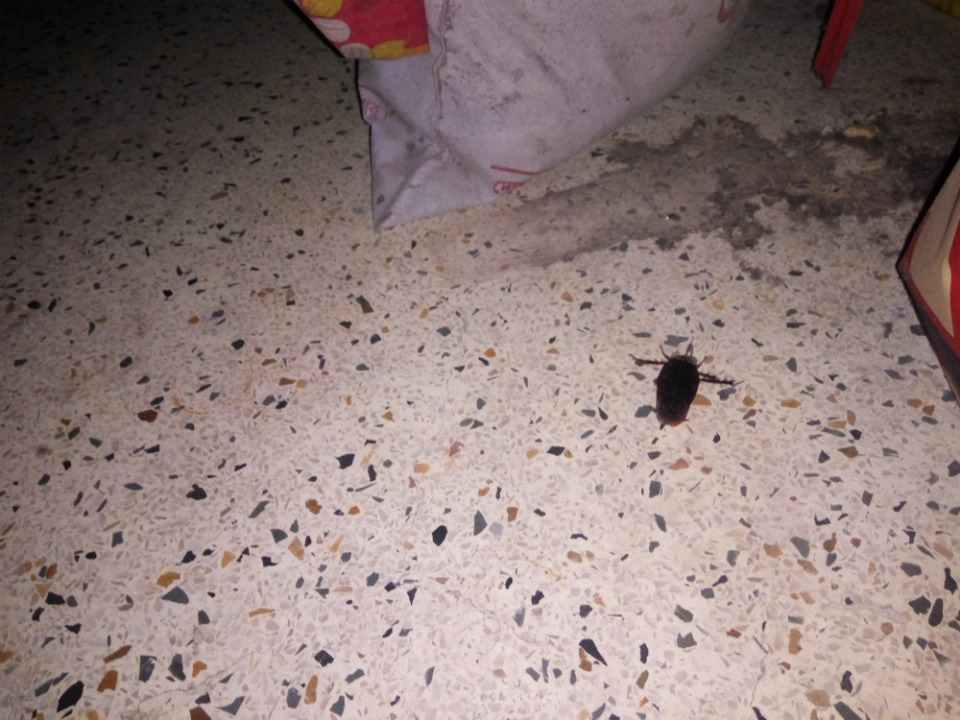cockroach: (550, 307, 811, 457)
